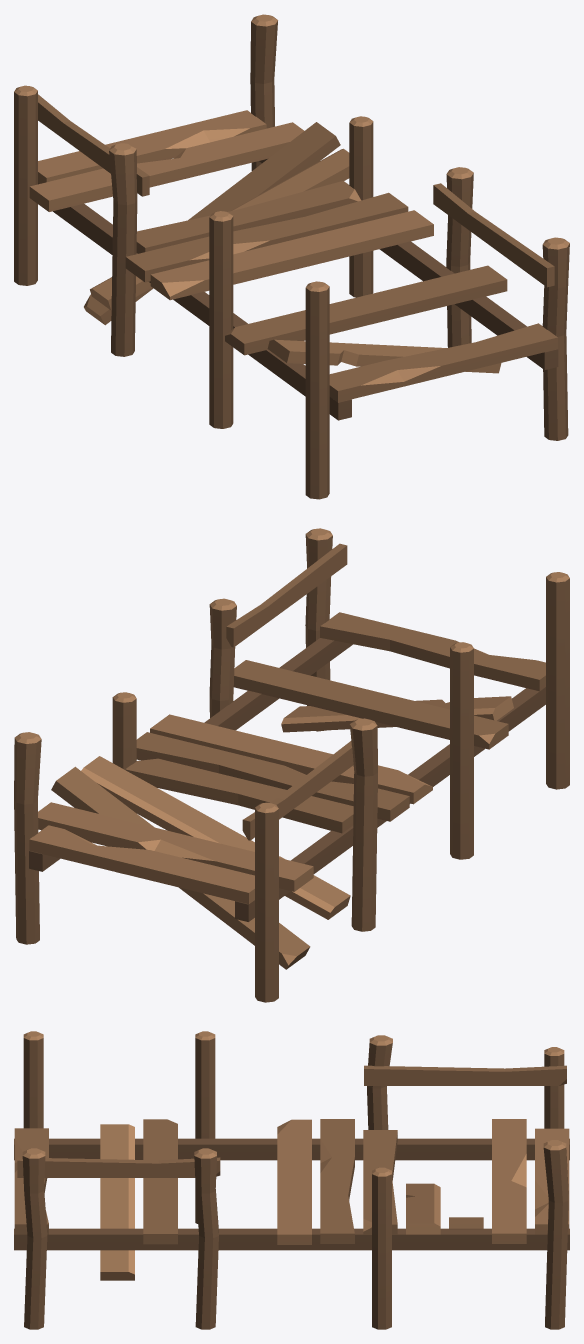
The model's file is destroyed-wooden-pier.glb.
3 views of the same model, one above another, from view 1: azimuth 30°, elevation 25°; view 2: azimuth 150°, elevation 25°; view 3: azimuth 270°, elevation 25° (orthographic). The views are drawn at different scales.
Parts seen in each view (by area): view 1: destroyed wooden pier; view 2: destroyed wooden pier; view 3: destroyed wooden pier.
Part boxes in pixels (bbox=[...]): destroyed wooden pier: bbox=[14, 14, 569, 499]; destroyed wooden pier: bbox=[14, 528, 569, 1002]; destroyed wooden pier: bbox=[14, 1031, 569, 1329].
Size of the model in its own units: 3.76 by 2.9 by 7.58.
1 material, 1 textured.
